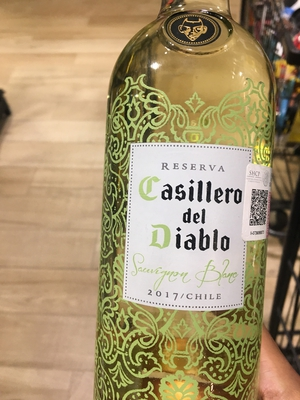casillero del diablo sauvignon blanc: (93, 12, 286, 400)
